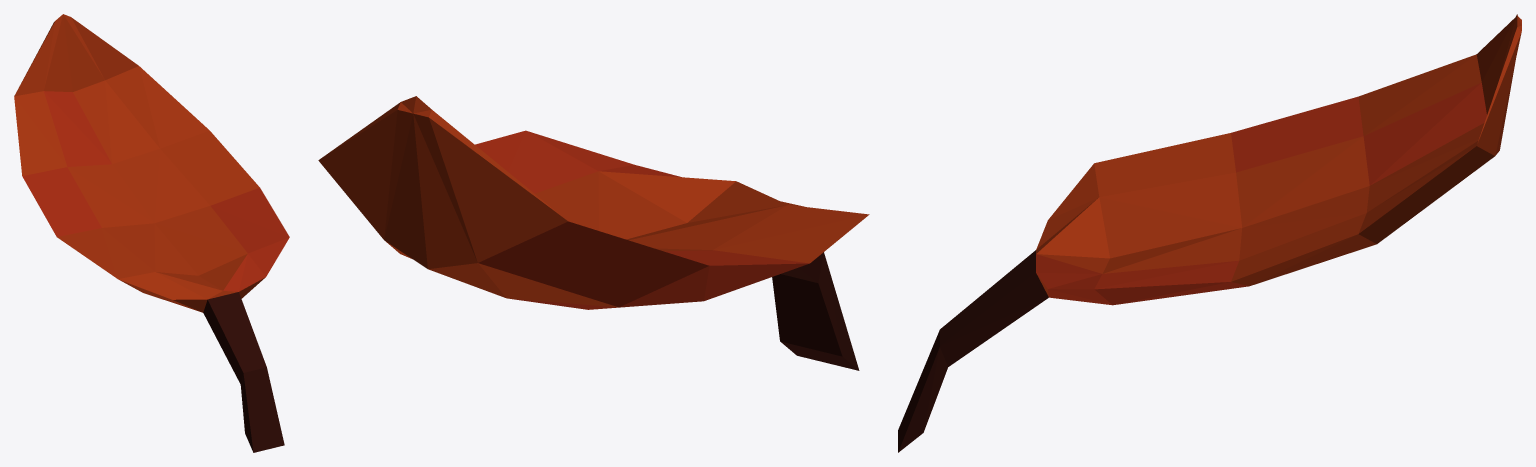
File: leaf_collectable.obj
The picture shows the model from 3 angles, left to right: view 1: azimuth 30°, elevation 25°; view 2: azimuth 150°, elevation 25°; view 3: azimuth 270°, elevation 25°; orthographic projection. The views are drawn at different scales.
Visible parts, largest first — view 1: Cube_Cube.001; view 2: Cube_Cube.001; view 3: Cube_Cube.001.
Part boxes in pixels (x1,y1,x2,y2): Cube_Cube.001: [14, 14, 289, 452]; Cube_Cube.001: [318, 96, 869, 370]; Cube_Cube.001: [898, 14, 1521, 452].
Bounding box in the file's own units: 1.3 × 1.74 × 2.3.
